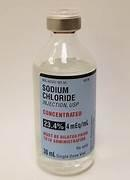Iv_Bottle: (33, 9, 95, 174)
